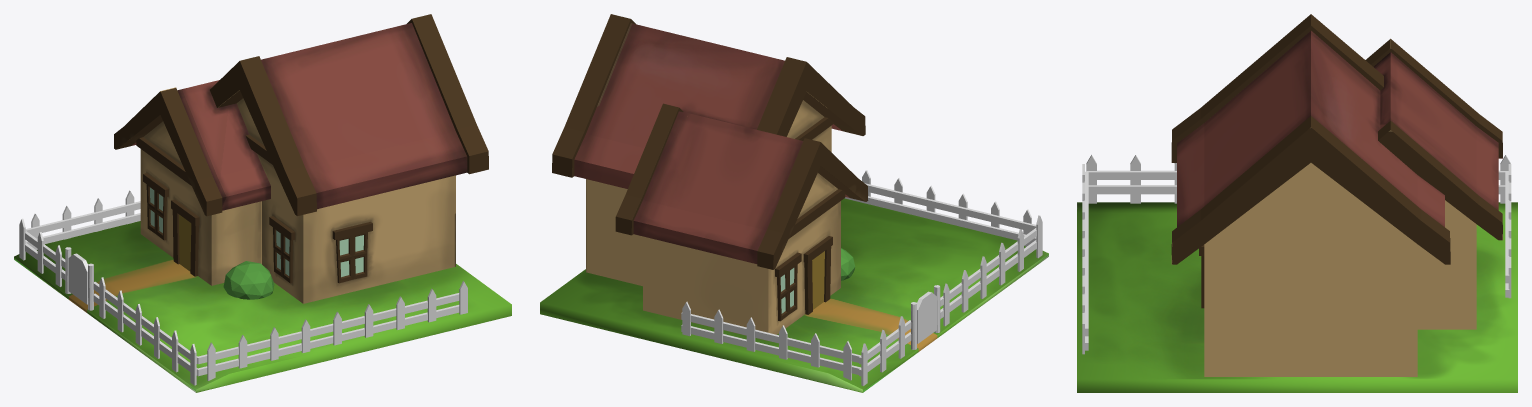
File: rumah.fbx
The picture shows the model from 3 angles, left to right: view 1: azimuth 30°, elevation 25°; view 2: azimuth 150°, elevation 25°; view 3: azimuth 270°, elevation 25°; orthographic projection. The views are drawn at different scales.
Parts seen in each view (by area): view 1: rumah, Cube.001, Cube.015, pagar.002, Cube.018, Icosphere, pagar.001, Cube.016, Cube.010, Cube.006, Cube.008, Cube.014 (+6 smaller); view 2: rumah, Cube.001, Cube.015, Cube.018, pagar.003, pagar.001, Cube.016, Cube.006, Cube.014, pagar.002, pagar, Cube.005 (+4 smaller); view 3: rumah, Cube.001, Cube.016, Cube.015, pagar.001, pagar.002, Cube.018, pagar.003.
Part boxes in pixels (x1,y1,x2,y2): rumah: [114, 14, 488, 303]; Cube.001: [14, 221, 511, 392]; Cube.015: [197, 293, 459, 376]; pagar.002: [207, 281, 467, 380]; Cube.018: [25, 201, 140, 247]; Icosphere: [223, 261, 274, 299]; pagar.001: [99, 277, 196, 385]; Cube.016: [93, 281, 198, 375]; Cube.010: [336, 232, 367, 283]; Cube.006: [146, 184, 166, 240]; Cube.008: [273, 227, 292, 283]; Cube.014: [68, 253, 87, 304]; rumah: [552, 14, 868, 340]; Cube.001: [540, 198, 1048, 392]; Cube.015: [845, 183, 1036, 243]; Cube.018: [681, 312, 860, 374]; pagar.003: [682, 301, 851, 380]; pagar.001: [943, 215, 1042, 326]; Cube.016: [940, 228, 1036, 318]; Cube.006: [777, 264, 797, 321]; Cube.014: [917, 291, 936, 343]; pagar.002: [862, 170, 1031, 246]; pagar: [861, 316, 904, 386]; Cube.005: [788, 189, 845, 238]; rumah: [1171, 14, 1502, 376]; Cube.001: [1077, 202, 1517, 392]; Cube.016: [1086, 170, 1176, 194]; Cube.015: [1084, 171, 1088, 350]; pagar.001: [1086, 155, 1176, 203]; pagar.002: [1082, 164, 1084, 354]; Cube.018: [1505, 172, 1509, 297]; pagar.003: [1508, 164, 1511, 298].
Bounding box in the file's own units: 2110 × 1378 × 2000.
6 materials, 2 textured.
